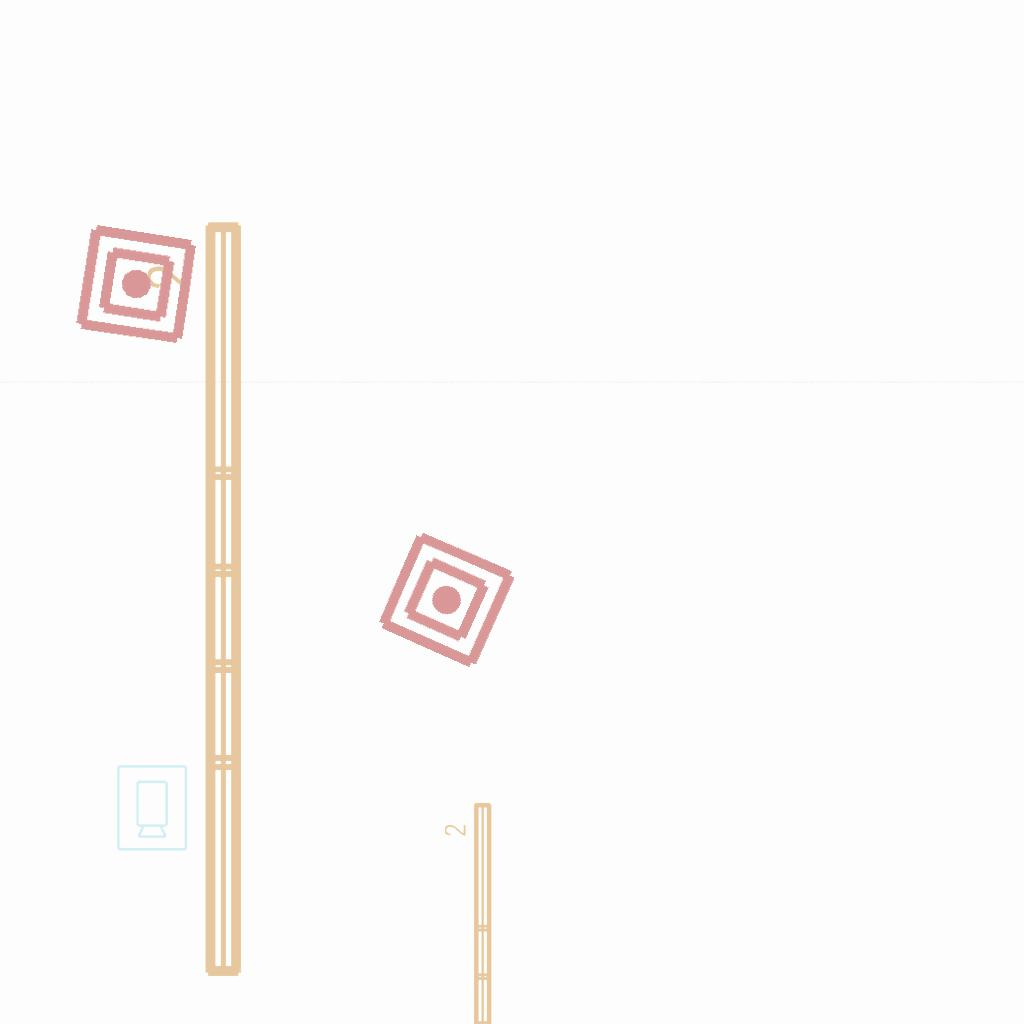Ambulanz_Pendelleuchte_LED: (142, 213, 254, 987), (442, 798, 498, 1024)
KFO_Kamera_mit_Festobjektiv: (113, 762, 190, 853)
NAM-Nichtautomatischer_Melder: (371, 524, 522, 675), (71, 219, 202, 350)
